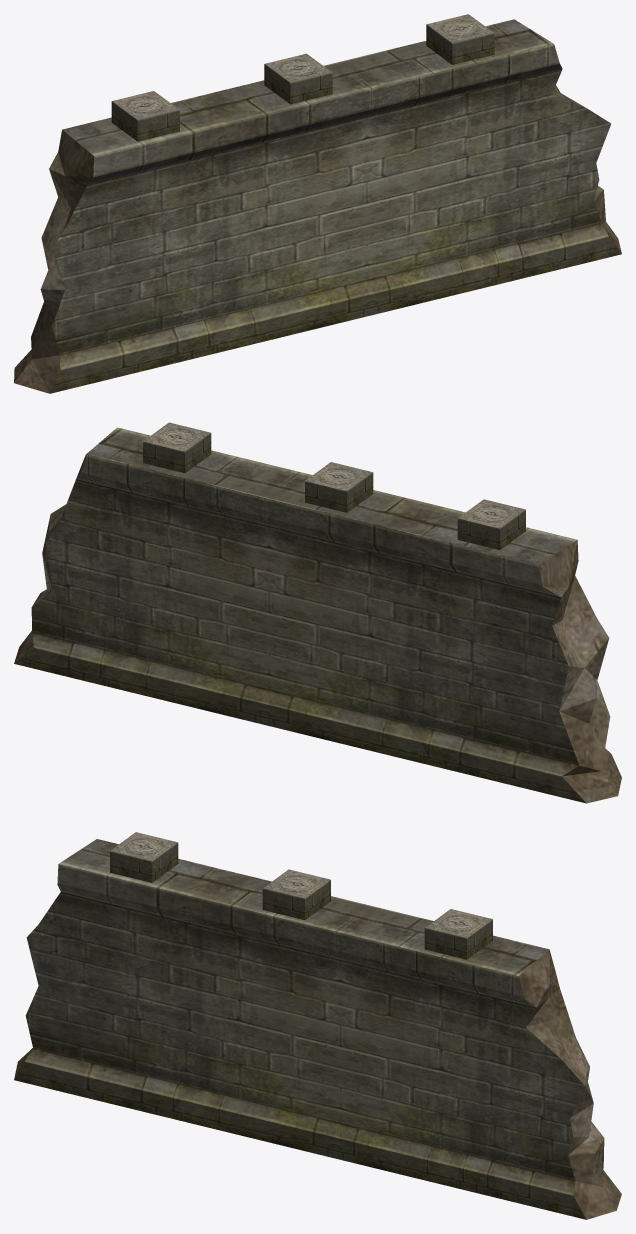
File: zshh_poqiang_06.FBX
3 renders of one model, top to bottom at view 1: azimuth 30°, elevation 25°; view 2: azimuth 150°, elevation 25°; view 3: azimuth 330°, elevation 25°, orthographic.
Parts seen in each view (by area): view 1: zshh_poqiang_06; view 2: zshh_poqiang_06; view 3: zshh_poqiang_06.
Boxes of the visible parts, <box> form: zshh_poqiang_06: <box>14,14,621,393</box>; zshh_poqiang_06: <box>14,422,621,803</box>; zshh_poqiang_06: <box>14,832,621,1219</box>.
Bounding box in the file's own units: 877 × 89.29 × 346.
